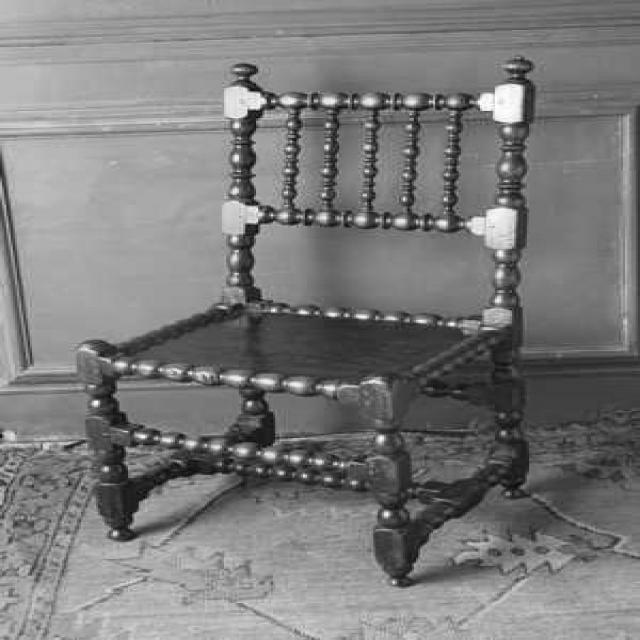chair: (82, 54, 550, 588)
